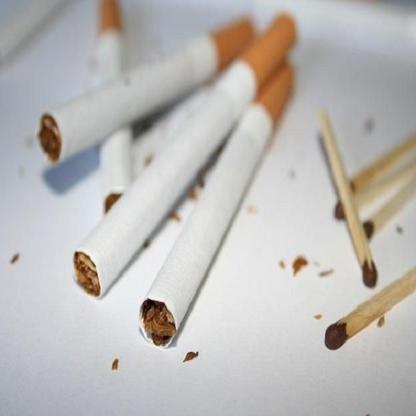trash: (64, 0, 295, 301), (127, 39, 304, 351), (0, 7, 259, 165), (306, 108, 384, 290), (310, 243, 416, 360), (81, 0, 136, 208)
